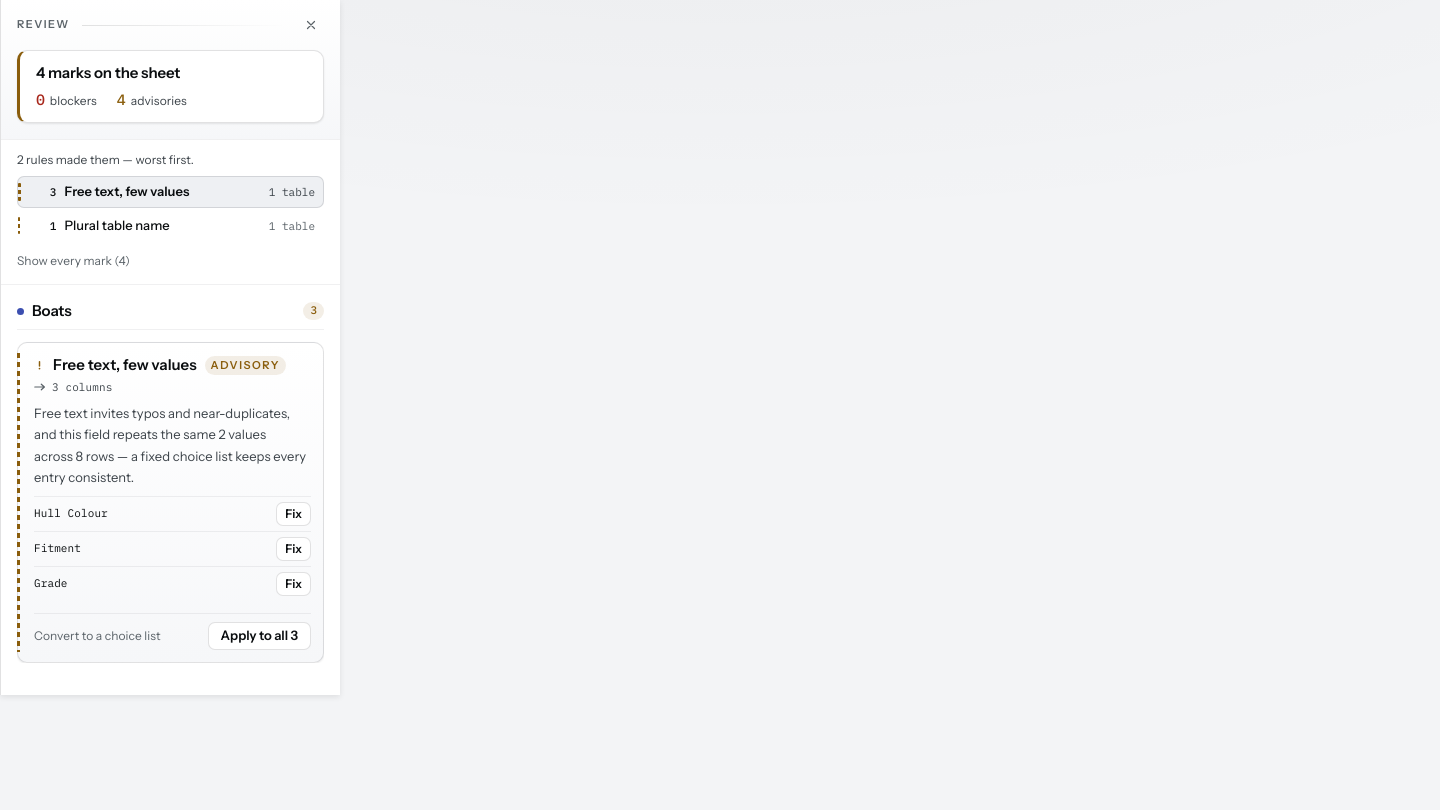
Test: the confirm gate › does not retype a column until the question is answered
The image size is (1440, 810).
Step 1. Click the button "Apply to all 3" → point(259, 636), box [208,622,311,650]
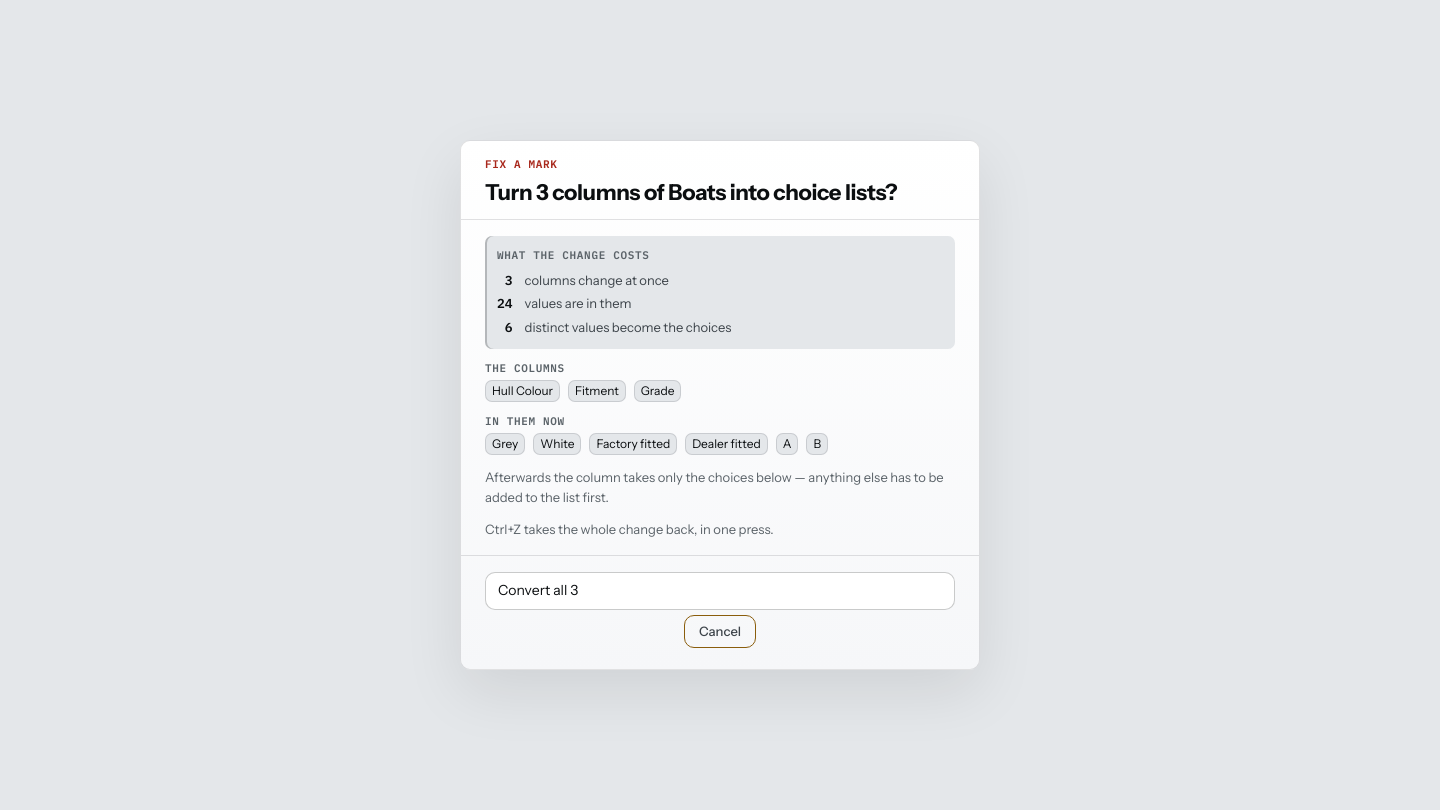
Check: the heading "Turn 3 columns of Boats into choice lists?" is shown, box [485,180,955,207]
